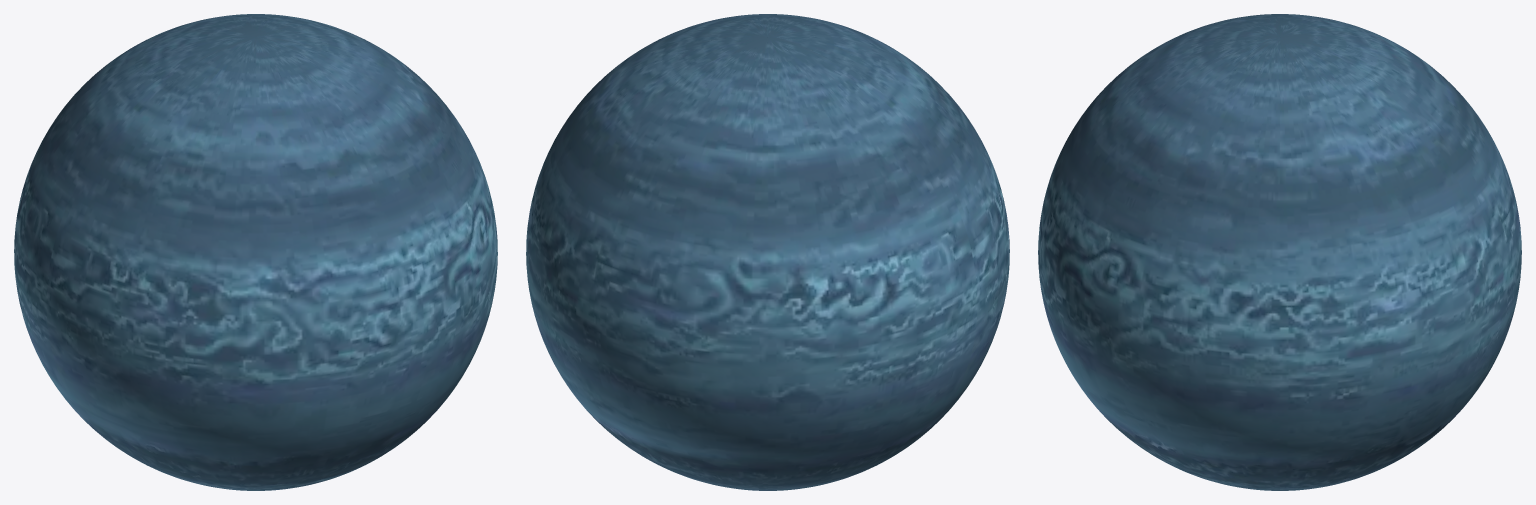
The model's file is neptune.glb.
3 views of the same model, side by side, from view 1: azimuth 30°, elevation 25°; view 2: azimuth 150°, elevation 25°; view 3: azimuth 270°, elevation 25° (orthographic).
Visible parts, largest first — view 1: neptune; view 2: neptune; view 3: neptune.
Part boxes in pixels (x1,y1,x2,y2): neptune: [14, 14, 497, 490]; neptune: [526, 14, 1009, 490]; neptune: [1038, 14, 1521, 490].
Bounding box in the file's own units: 4.95e+07 × 4.87e+07 × 4.95e+07.
1 material, 1 textured.
